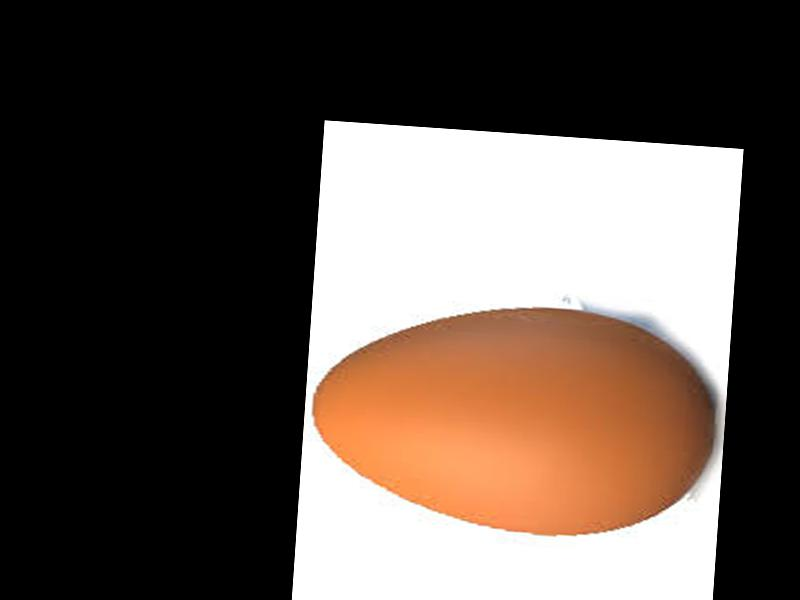Eggs: (307, 293, 722, 546)
